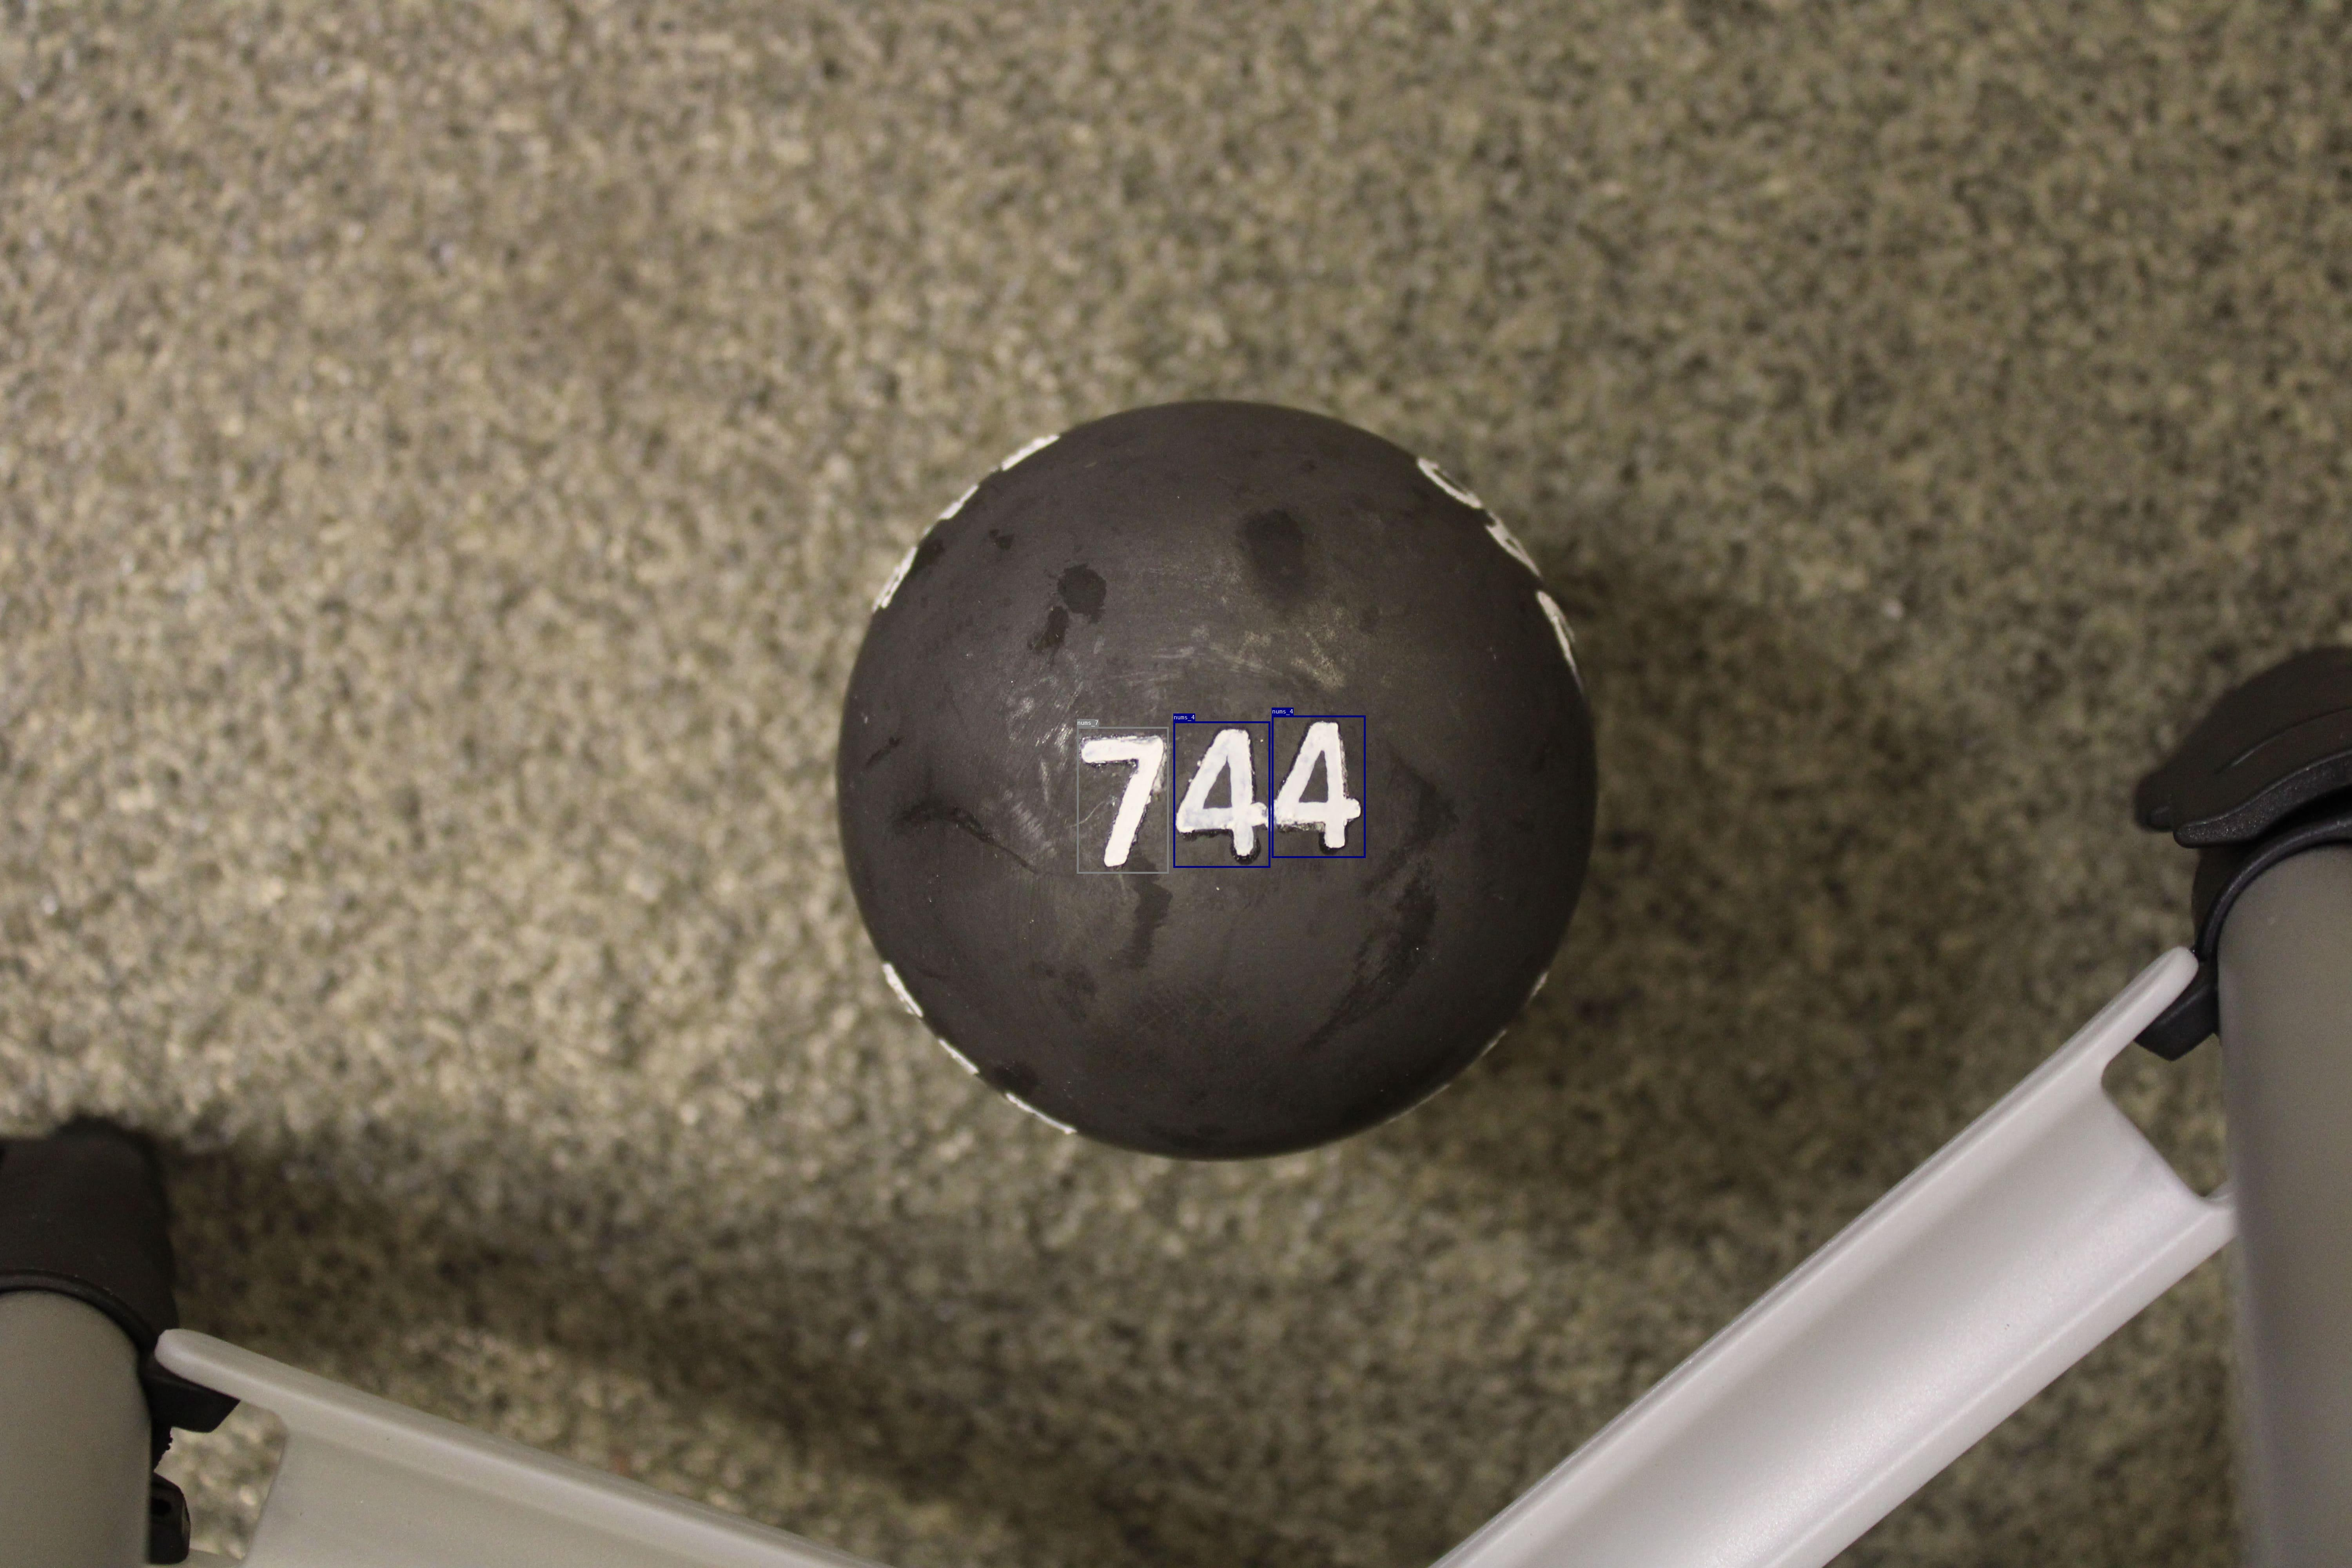nums_4: (1172, 721, 1270, 868), (1272, 716, 1365, 857)
nums_7: (1076, 726, 1169, 873)
